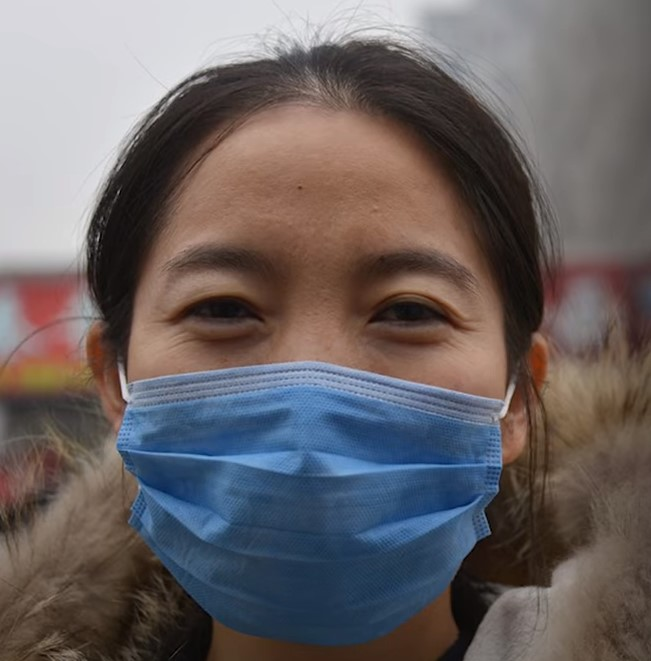face_with_mask: (81, 59, 564, 653)
